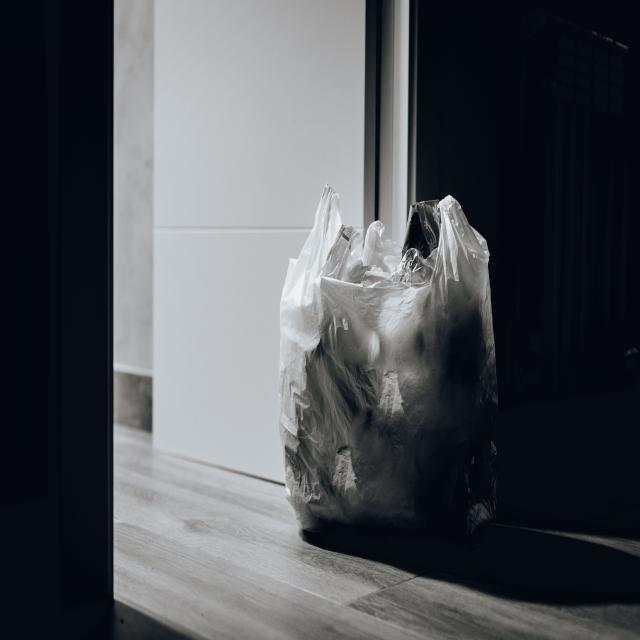trash: (292, 231, 470, 521)
